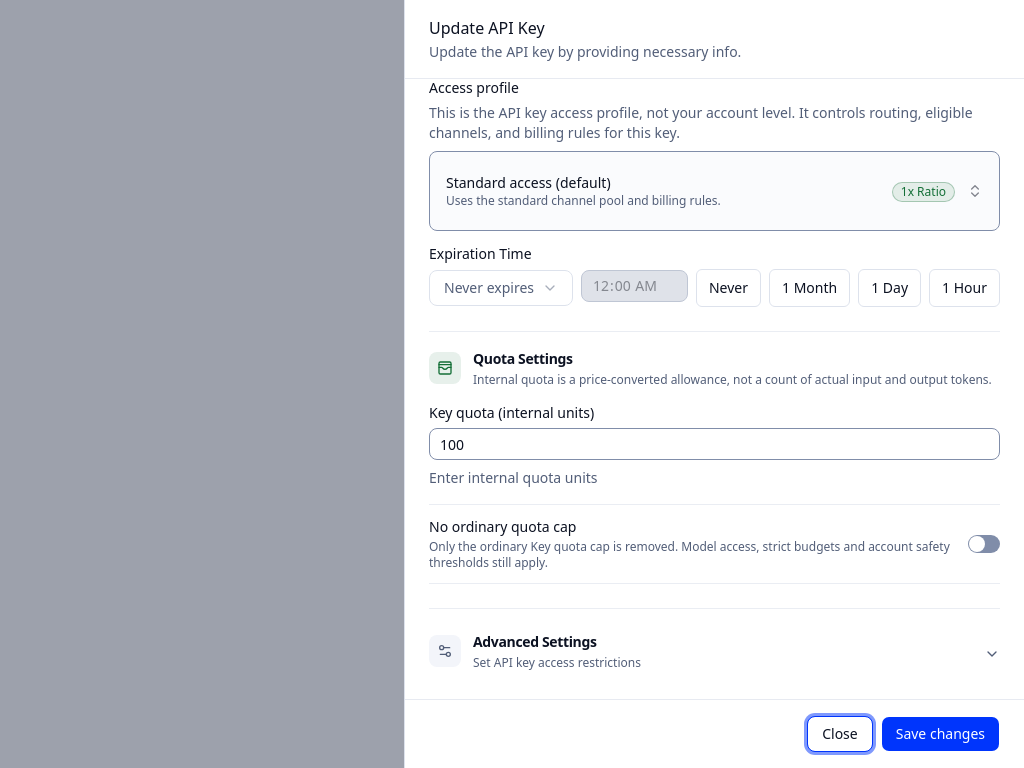
shows the complete deny all model scope as read-only in the generic editor
(page scrolled)
Expected: the button "Save changes" is enabled, x1=881 y1=716 x2=1000 y2=752
Click the button "Advanced Settings Set API key access restrictions" at coordinates (445, 651), box x1=429 y1=629 x2=1000 y2=679
(page scrolled)
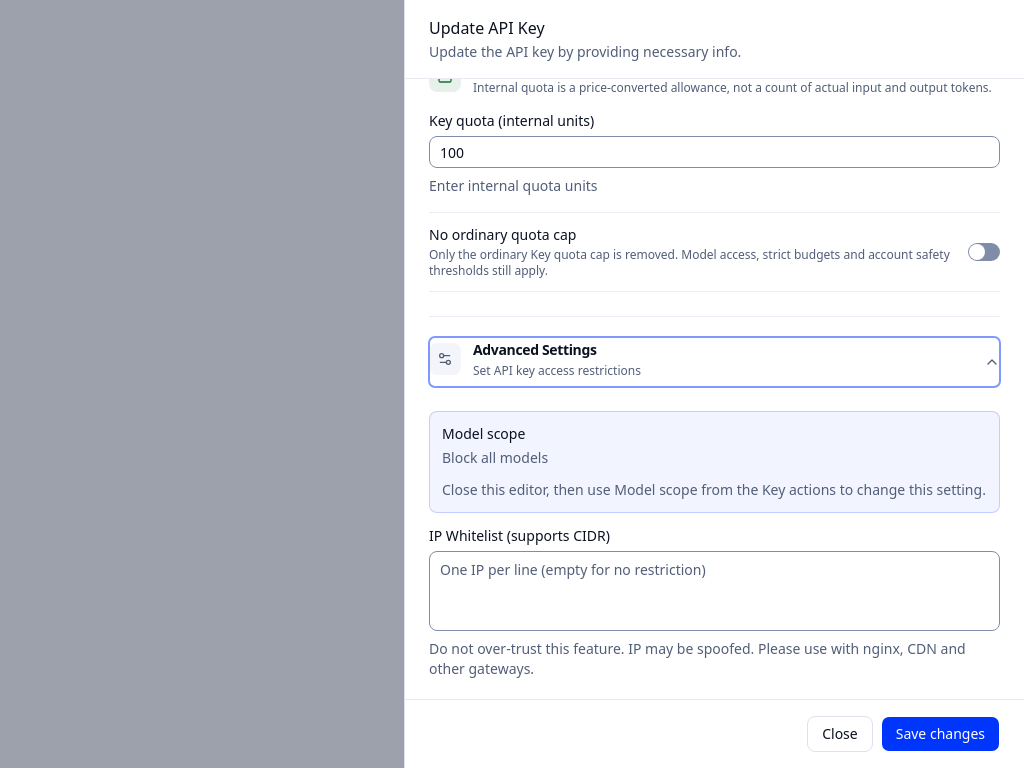
Now the text "Block all models" is shown, box x1=442 y1=448 x2=548 y2=467
Now the text "Close this editor, then use Model scope from the Key actions to change this setting." is shown, box x1=442 y1=480 x2=986 y2=499
